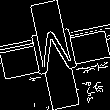M_S: (27, 26, 83, 84)
